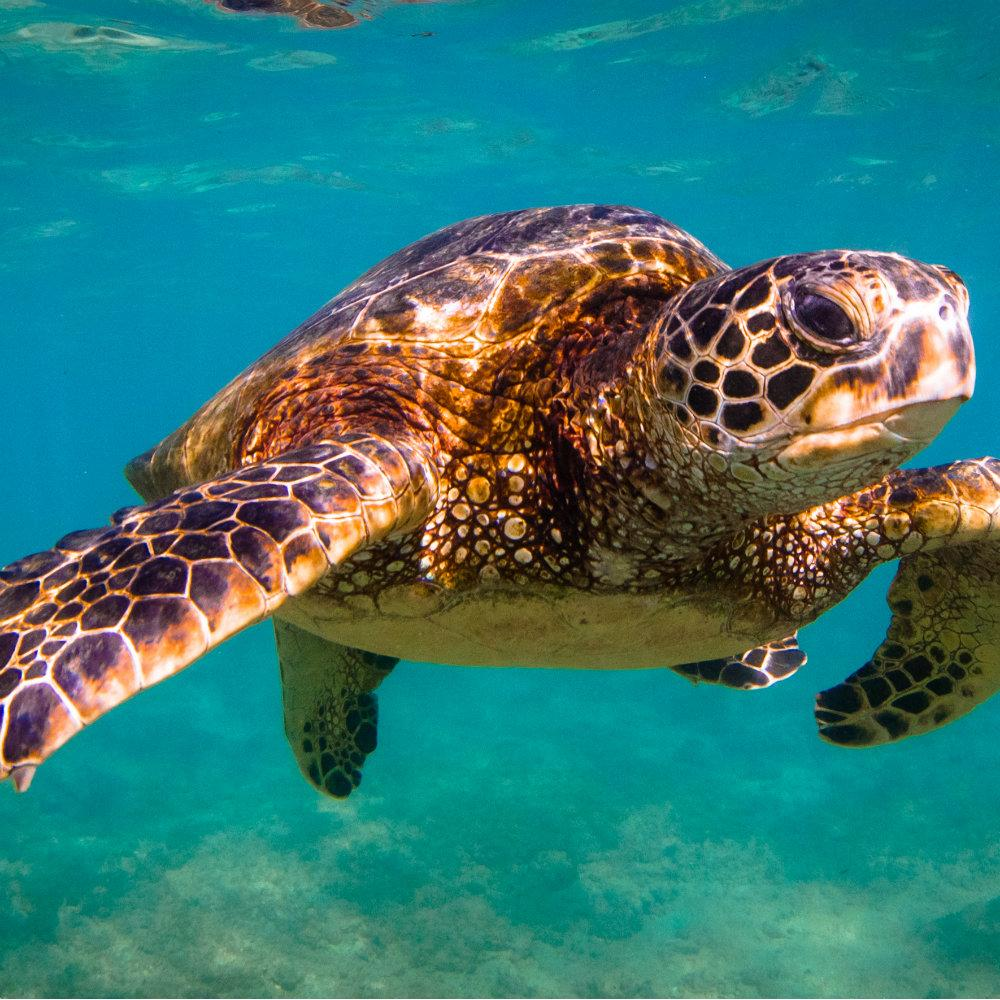turtle: (639, 241, 986, 500)
